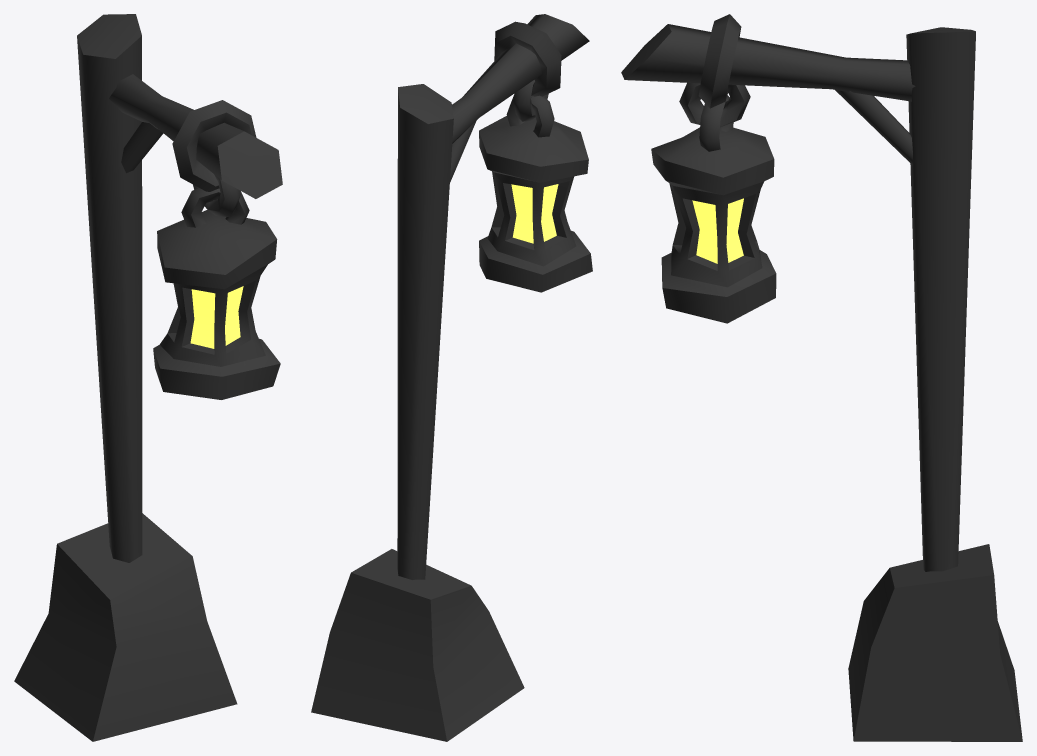
Rendered from SM_PROP_streetlamp_v01_03.FBX.
3 views of the same model, side by side, from view 1: azimuth 30°, elevation 25°; view 2: azimuth 150°, elevation 25°; view 3: azimuth 270°, elevation 25° (orthographic). The views are drawn at different scales.
Parts seen in each view (by area): view 1: SM_PROP_streetlamp_v01_03; view 2: SM_PROP_streetlamp_v01_03; view 3: SM_PROP_streetlamp_v01_03.
Boxes of the visible parts, box(x1,y1,x2,y2) form: SM_PROP_streetlamp_v01_03: box(14, 14, 282, 741); SM_PROP_streetlamp_v01_03: box(311, 14, 592, 741); SM_PROP_streetlamp_v01_03: box(621, 14, 1022, 741).
Size of the model in its own units: 87.83 by 200 by 374.
